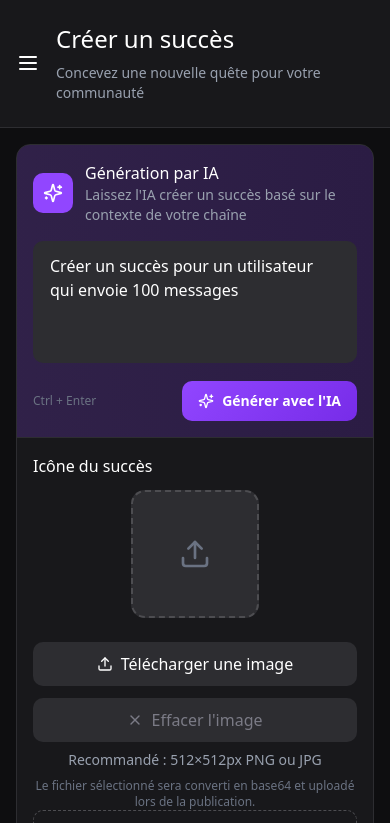
AchievementCreator › should prefill the form from the AI suggestion route
This screenshot has width=390, height=823.
Click the button "Générer avec l'IA" at {"x": 270, "y": 401}, box [182,381,357,421]
(page scrolled)
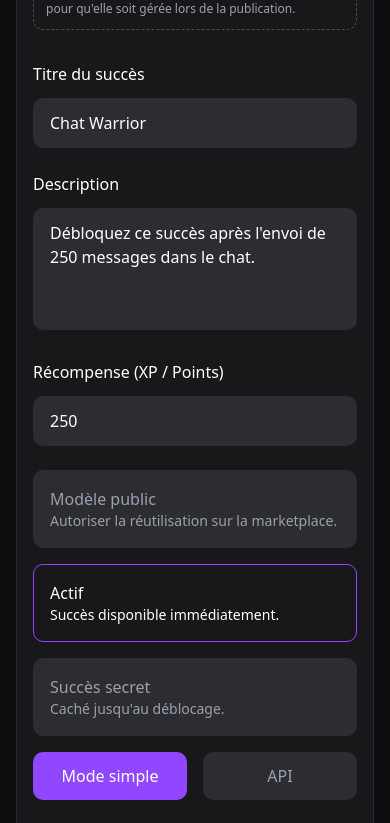
Now the field showing "Chat Warrior" is shown, box [33,98,357,148]
Now the number field labelled "Récompense (XP / Points)" holds "250", box [33,396,357,446]
